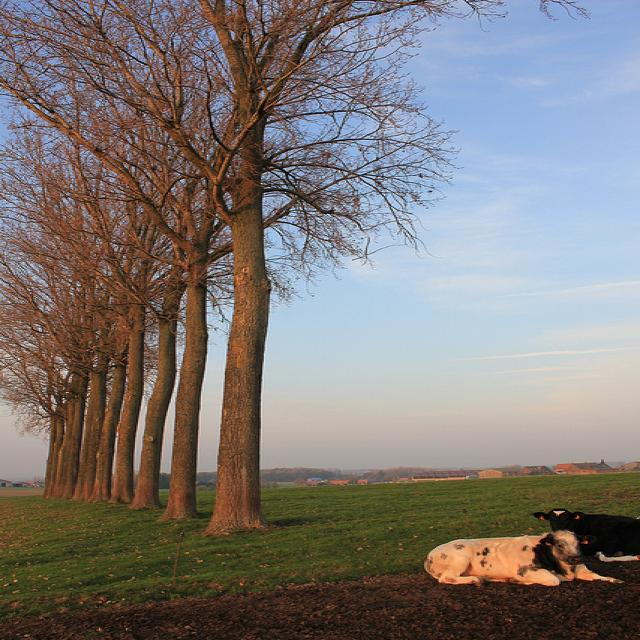cow: (423, 531, 622, 585), (531, 507, 639, 561)
